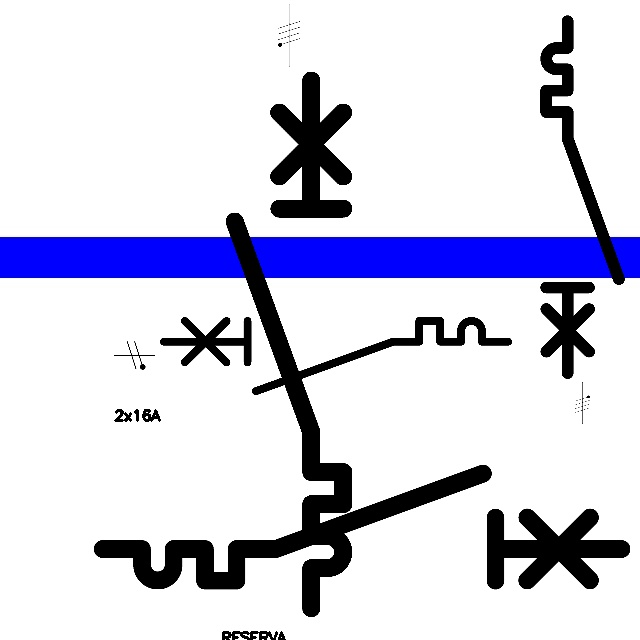interruptor_termomagnetico: (221, 66, 357, 621), (89, 460, 635, 594), (537, 12, 627, 382), (154, 312, 516, 400)
